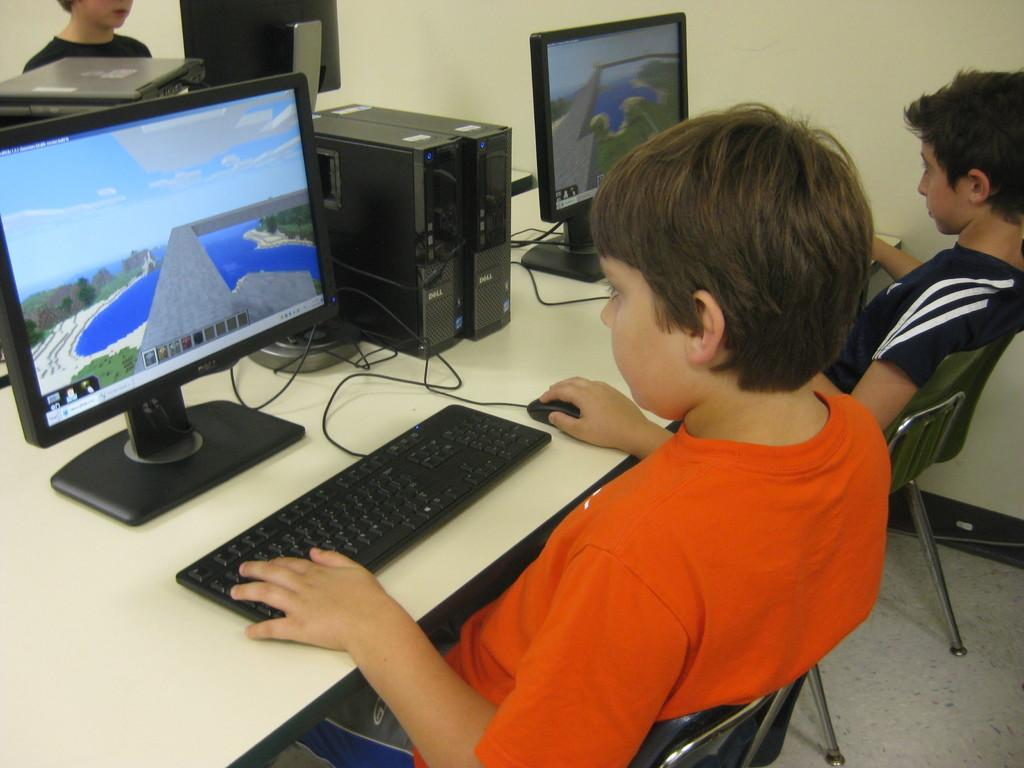Computer-keyboard: (173, 402, 554, 625)
Computer-monitor: (0, 44, 348, 500), (515, 9, 708, 283), (172, 0, 350, 111)
